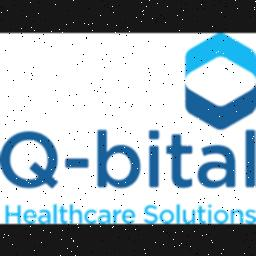h: (2, 200, 22, 222)
i: (52, 202, 60, 222)
o: (158, 208, 176, 222)
q: (0, 126, 62, 194)
s: (142, 201, 158, 223), (244, 206, 256, 222)
